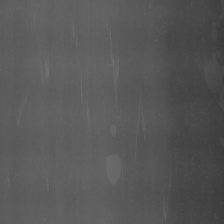silk_spot: (102, 123, 129, 189), (131, 96, 152, 153), (106, 39, 126, 91), (37, 48, 50, 83), (68, 20, 80, 46), (80, 83, 90, 112)
